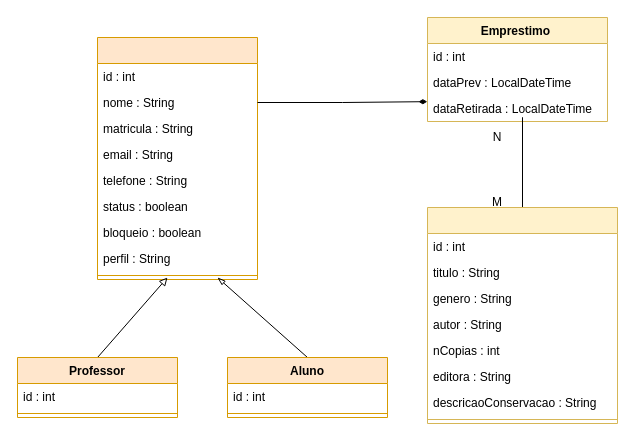
The diagram is 635 pixels wide and 441 high, and some of its shapes have lost their labels. The box of each missing label's shape, as (x1, y1, x2, y2) in pixels:
Livro: (426, 206, 618, 424)
Usuario: (96, 36, 258, 280)
